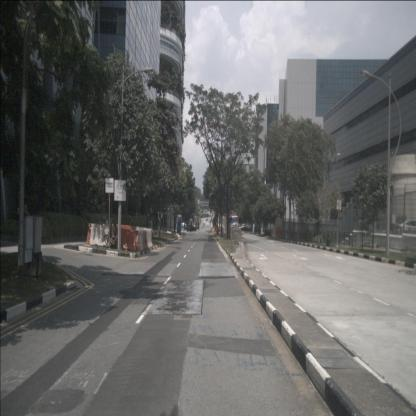barrier: (89, 223, 115, 247), (114, 228, 138, 251), (86, 223, 110, 244), (116, 224, 135, 246), (134, 226, 153, 247), (145, 229, 153, 248), (137, 230, 144, 251), (142, 230, 148, 249), (275, 230, 283, 238), (272, 229, 276, 238)
cone: (137, 237, 141, 252)
